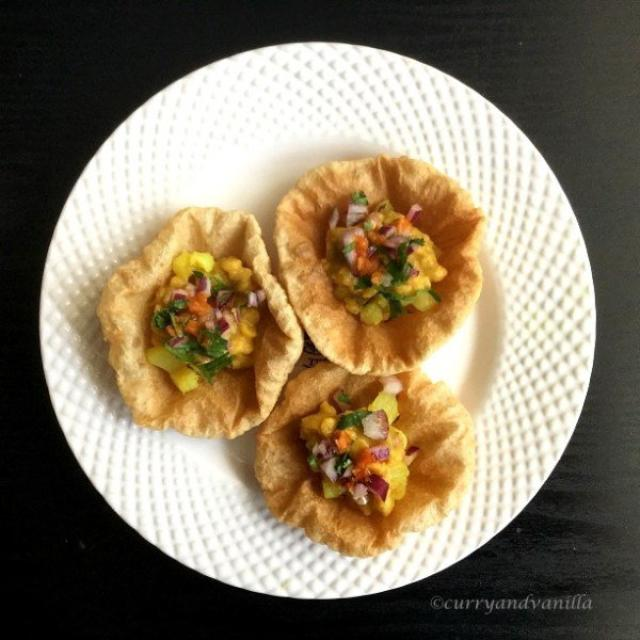potato: (303, 198, 450, 332), (132, 280, 258, 395), (304, 407, 425, 509)
puri: (279, 175, 478, 365), (94, 237, 300, 418), (303, 376, 481, 549)
